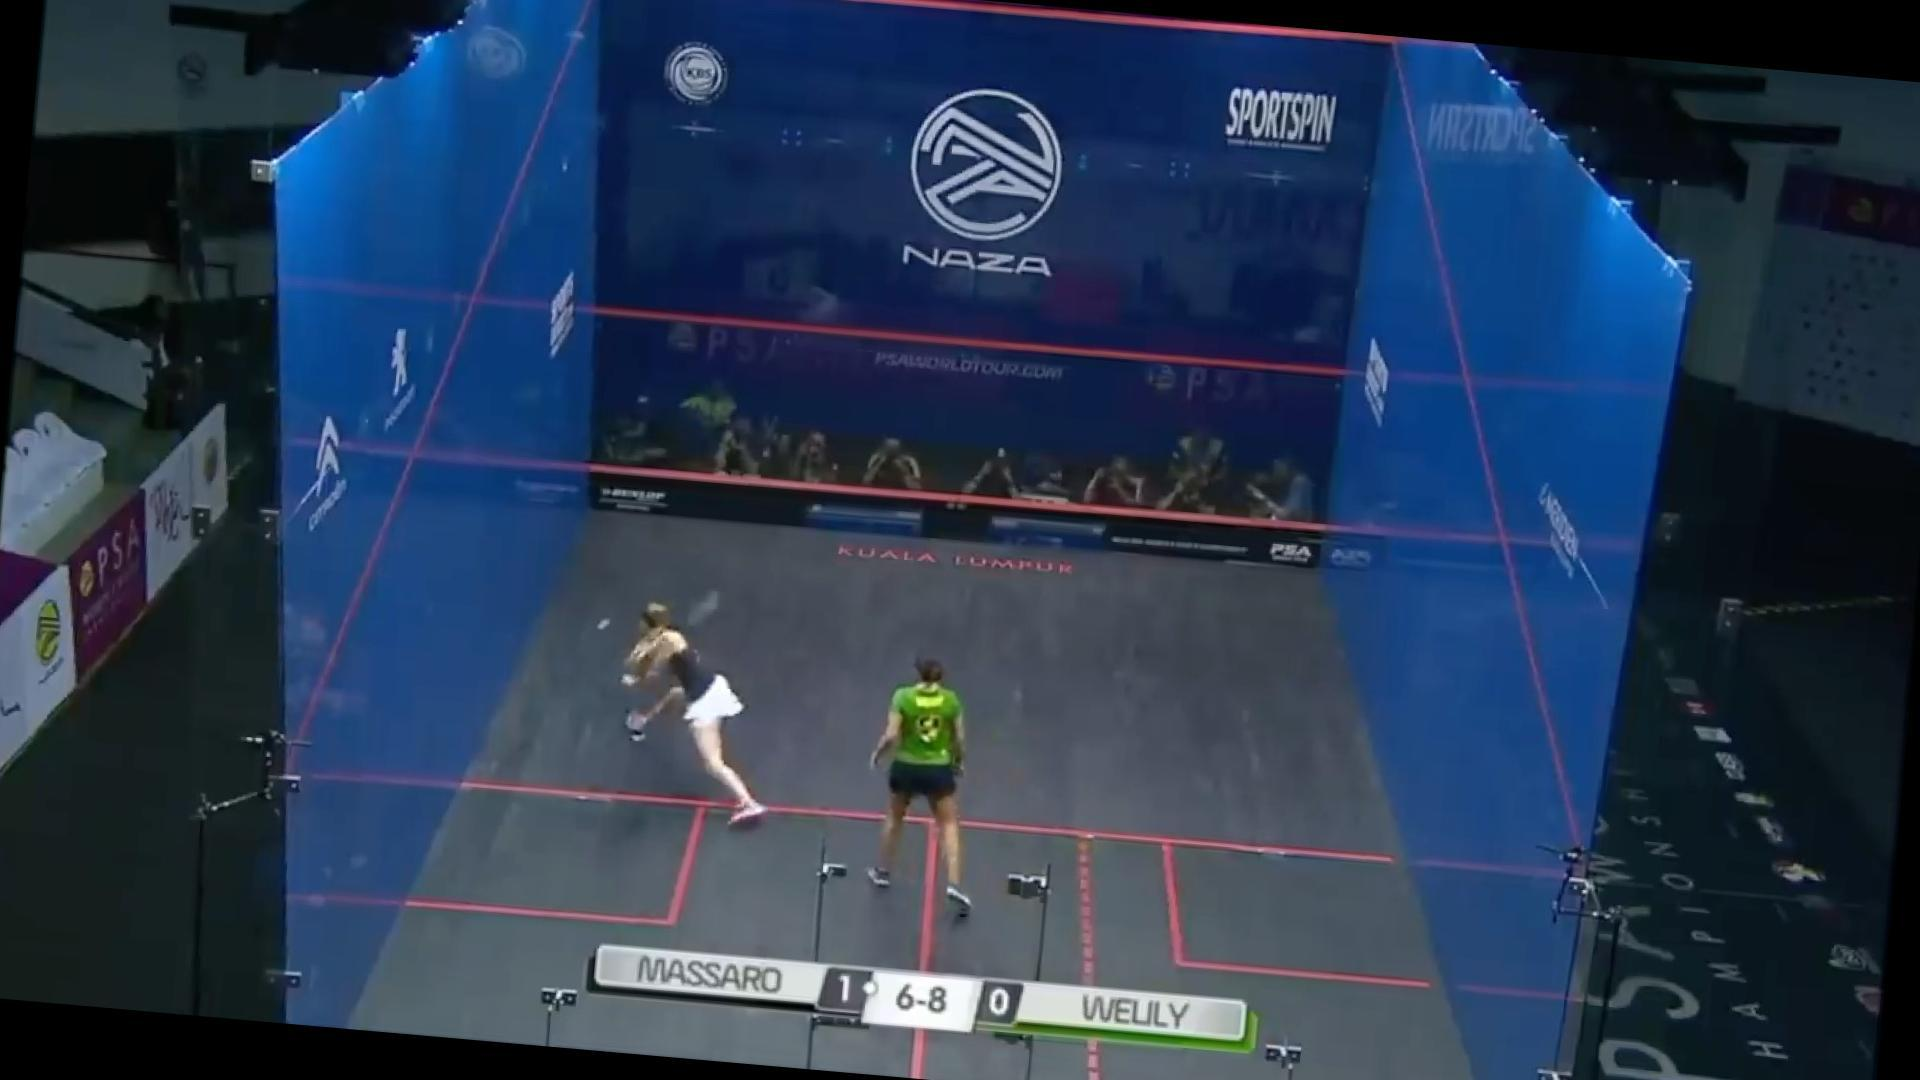Squash-Ball: (588, 613, 622, 641)
